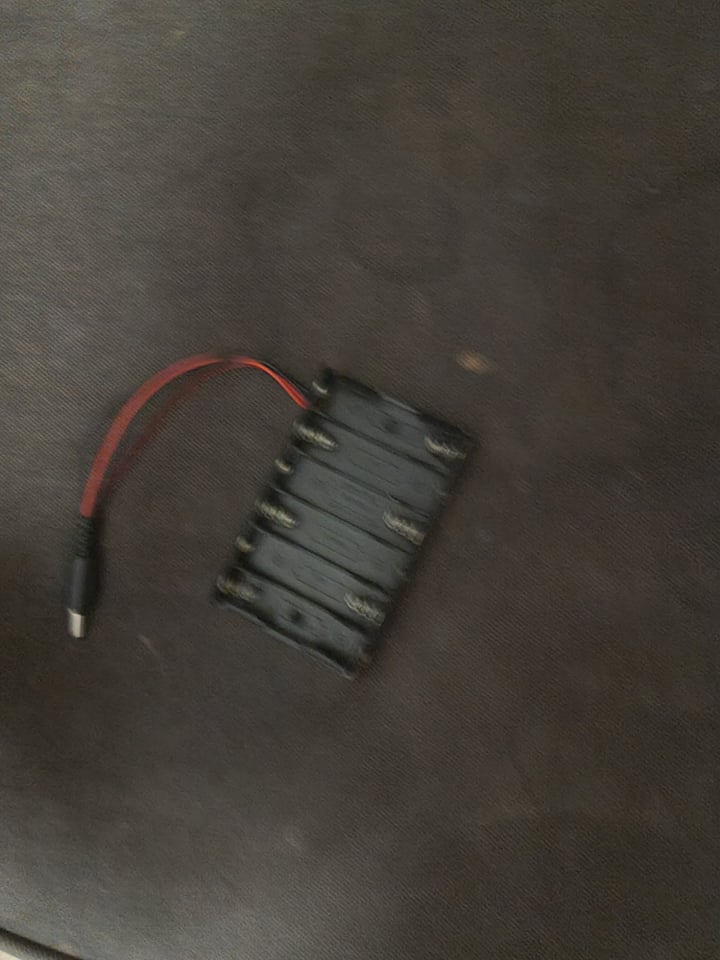BATTERY BOX: (225, 361, 453, 698)
